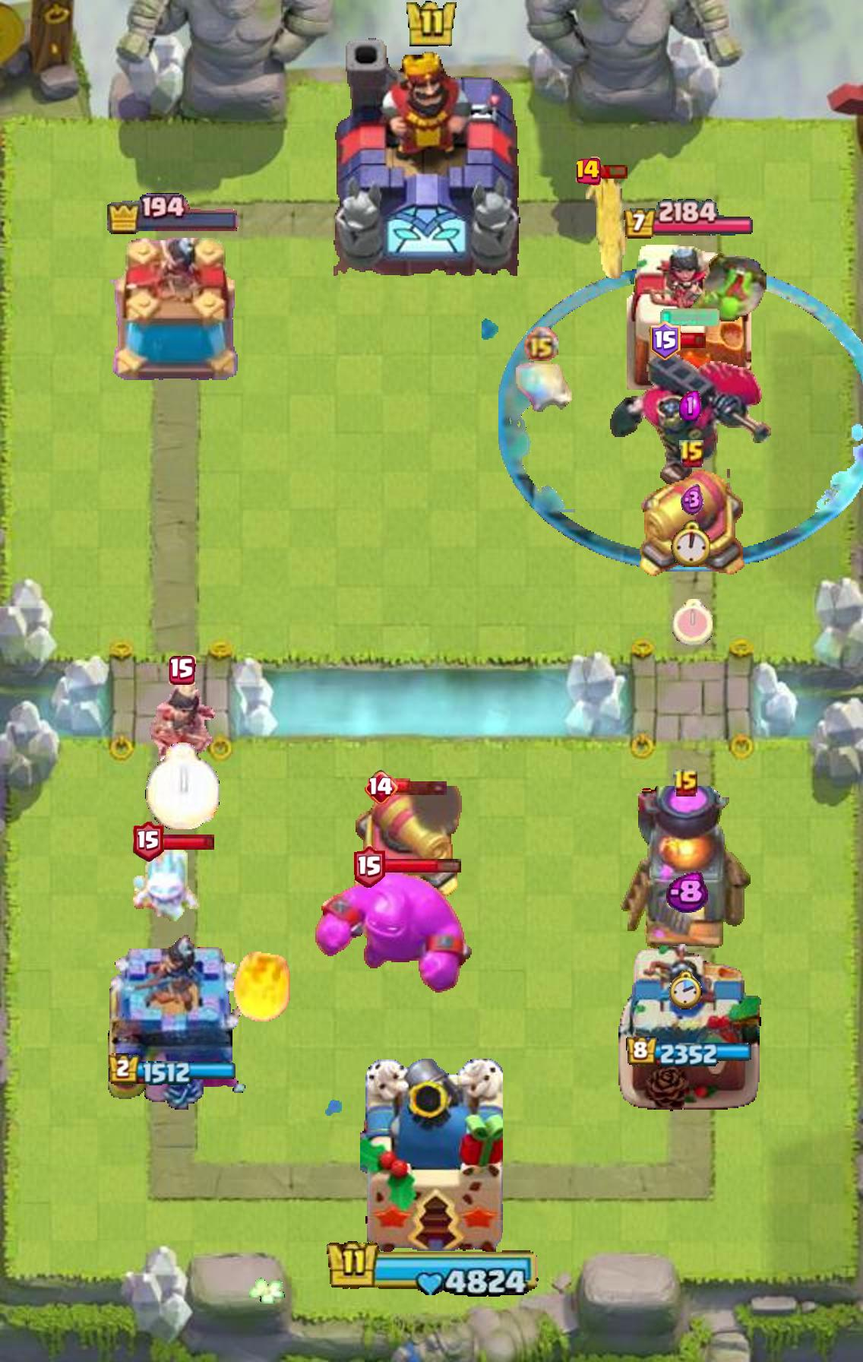bar: (381, 858, 462, 875), (394, 778, 449, 796), (160, 834, 217, 850), (678, 332, 707, 349), (598, 163, 628, 179)
bar-level: (353, 844, 385, 888), (649, 321, 682, 360), (132, 822, 164, 862), (365, 770, 398, 805), (678, 439, 706, 470), (672, 768, 700, 799), (169, 655, 196, 686), (576, 157, 602, 185)
